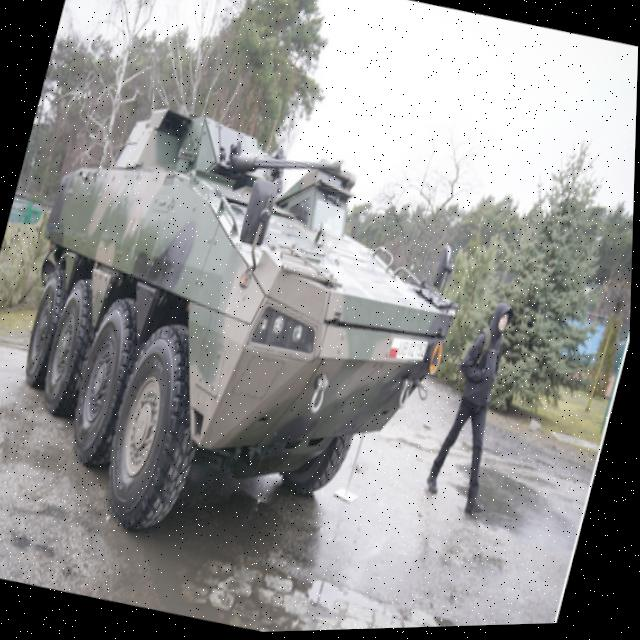MIL_APC: (0, 71, 508, 607)
